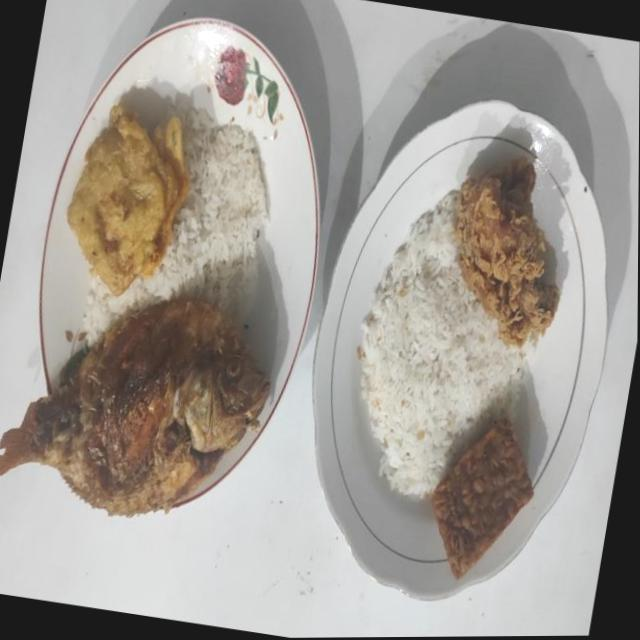ikan_mujair: (0, 298, 270, 516)
nasi_putih: (359, 191, 526, 498), (82, 104, 270, 345)
tempe_goreng: (432, 418, 534, 579)
